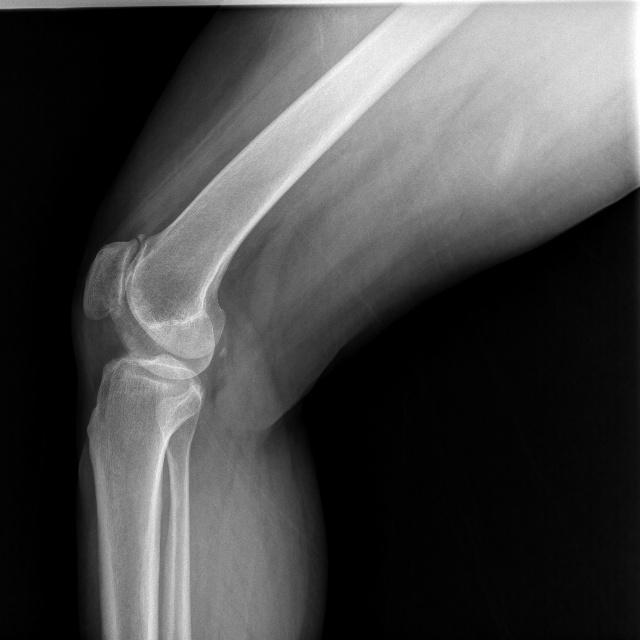Knee: (78, 231, 227, 439)
